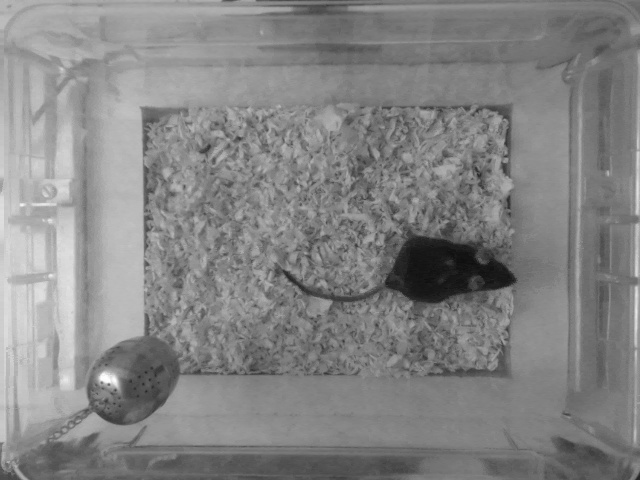mice: (279, 234, 524, 303)
